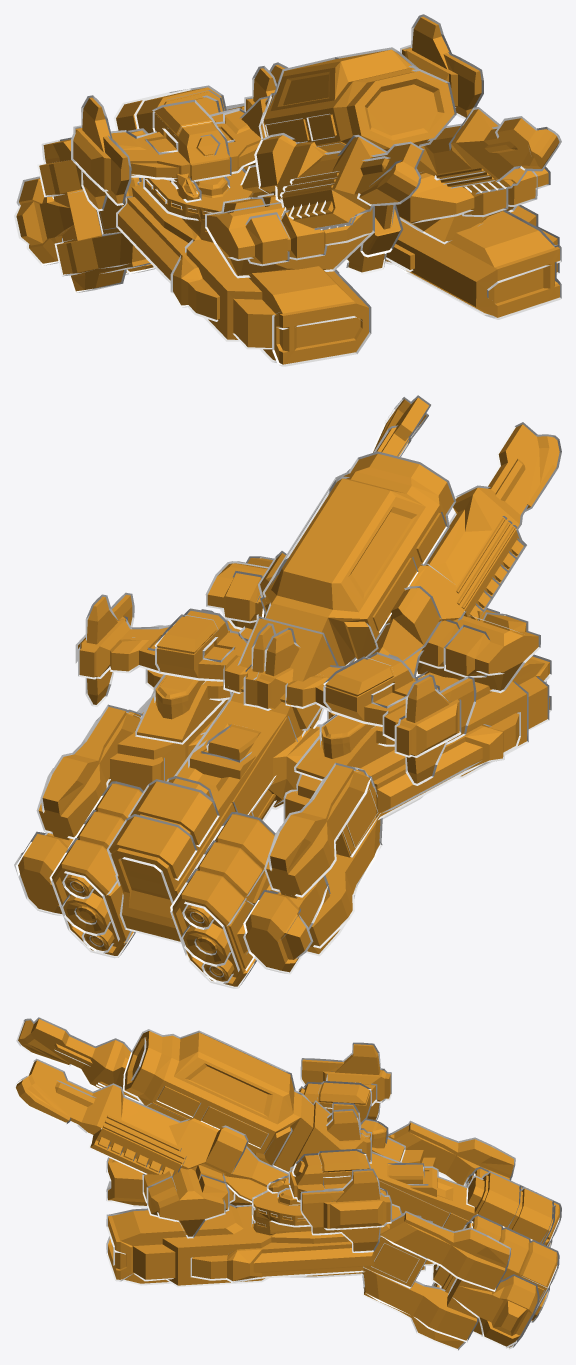
File: ship10_orange.glb
3 renders of one model, top to bottom at view 1: azimuth 30°, elevation 25°; view 2: azimuth 150°, elevation 25°; view 3: azimuth 270°, elevation 25°, orthographic. The views are drawn at different scales.
Visible parts, largest first — view 1: ME_ship_IndexedFaceSet.001, ME_ship_IndexedFaceSet; view 2: ME_ship_IndexedFaceSet, ME_ship_IndexedFaceSet.001; view 3: ME_ship_IndexedFaceSet, ME_ship_IndexedFaceSet.001.
Part boxes in pixels (bbox=[...]): ME_ship_IndexedFaceSet.001: bbox=[71, 14, 561, 366]; ME_ship_IndexedFaceSet: bbox=[14, 47, 561, 293]; ME_ship_IndexedFaceSet: bbox=[14, 395, 561, 988]; ME_ship_IndexedFaceSet.001: bbox=[75, 556, 551, 838]; ME_ship_IndexedFaceSet: bbox=[14, 1017, 561, 1350]; ME_ship_IndexedFaceSet.001: bbox=[106, 1042, 438, 1287].
Size of the model in its own units: 352 by 323 by 573.
